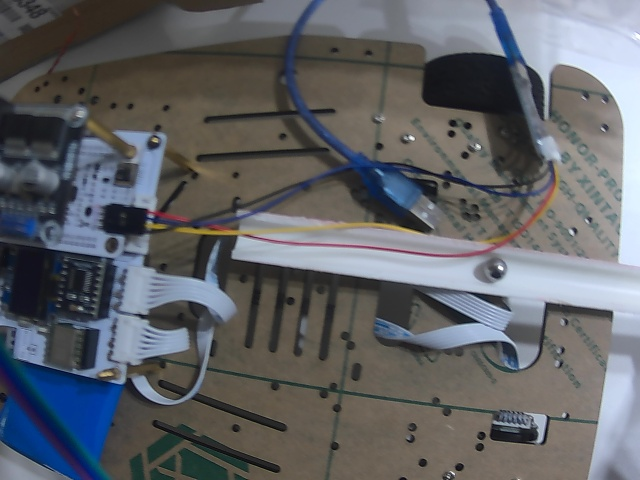steelball: (484, 258, 507, 281)
